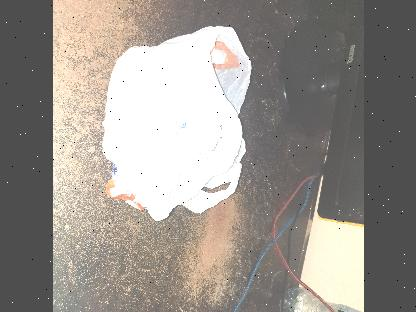Others: (96, 20, 258, 224)
Plastic Bottle: (278, 286, 363, 312)
